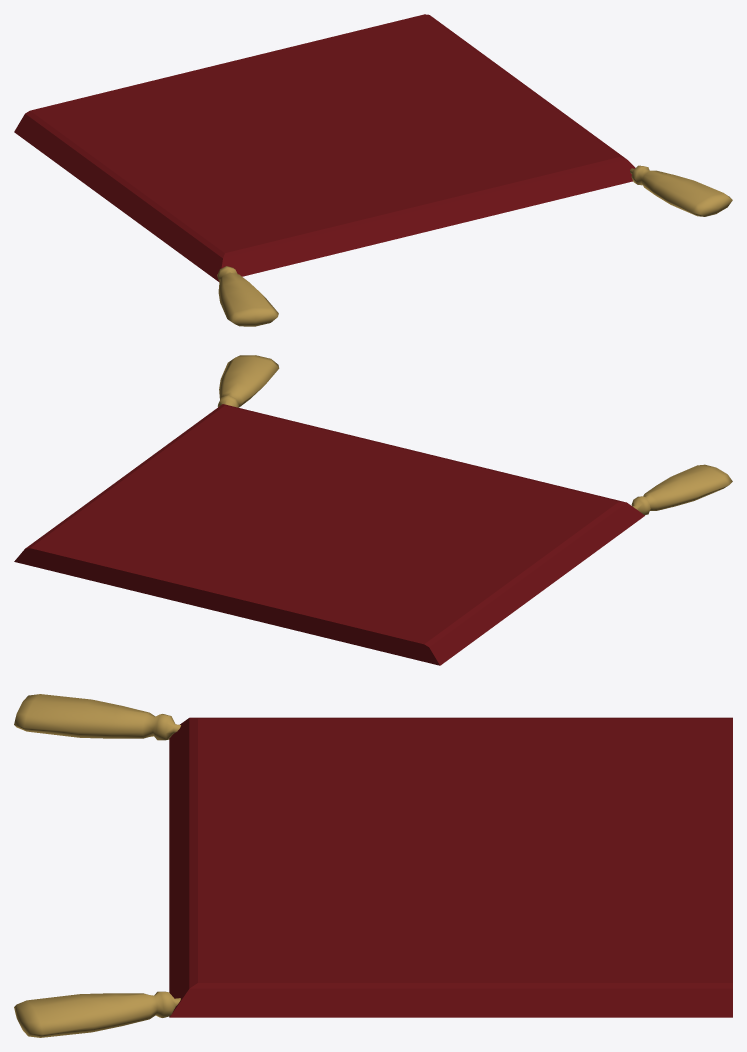
The model's file is MiscRunnerEndUV.fbx.
The picture shows the model from 3 angles, top to bottom: view 1: azimuth 30°, elevation 25°; view 2: azimuth 150°, elevation 25°; view 3: azimuth 270°, elevation 25°; orthographic projection. The views are drawn at different scales.
Visible parts, largest first — view 1: RunnerEnd1; view 2: RunnerEnd1; view 3: RunnerEnd1.
Boxes of the visible parts, x1,y1,x2,y2 form: RunnerEnd1: (14,14,732,326); RunnerEnd1: (14,355,732,665); RunnerEnd1: (14,694,732,1037).
Size of the model in its own units: 141 by 5.78 by 128.
